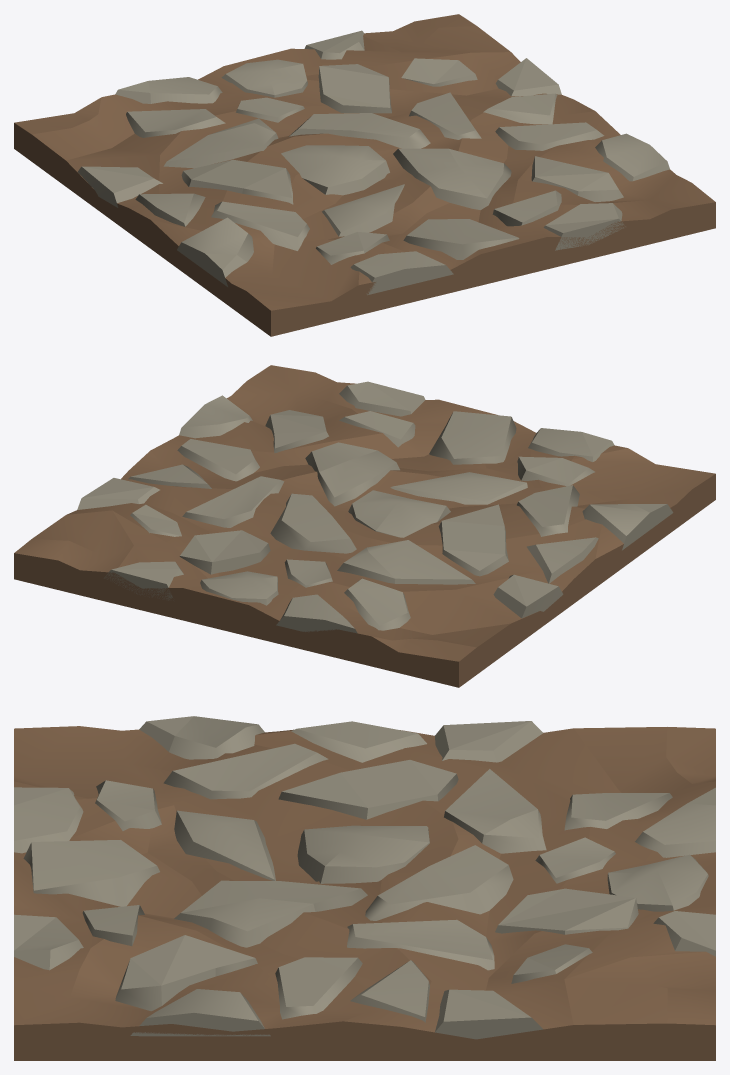
File: Ground_Stone_Path_Crossroads.glb
3 views of the same model, one above another, from view 1: azimuth 30°, elevation 25°; view 2: azimuth 150°, elevation 25°; view 3: azimuth 270°, elevation 25° (orthographic). The views are drawn at different scales.
Parts seen in each view (by area): view 1: Ground_Stone_Path_Crossroads; view 2: Ground_Stone_Path_Crossroads; view 3: Ground_Stone_Path_Crossroads.
Part boxes in pixels (<box>): Ground_Stone_Path_Crossroads: <box>14,14,715,336</box>; Ground_Stone_Path_Crossroads: <box>14,365,715,687</box>; Ground_Stone_Path_Crossroads: <box>14,716,715,1060</box>.
Size of the model in its own units: 1.47 by 0.1486 by 1.47.
